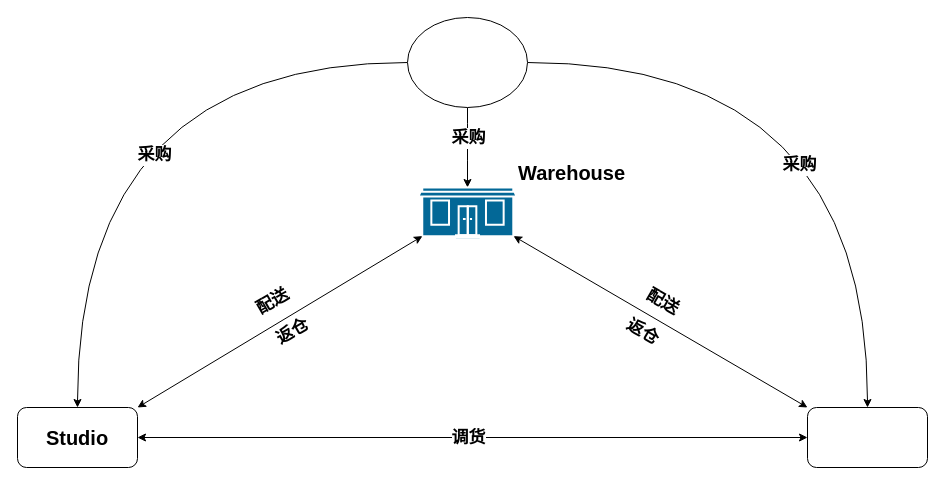
Image size: 945x485. Some labels were removed from this diagram. The centre of each missing label's shape, as x and y in pixels:
Pub: the point at 867,437
Supplier: the point at 467,62
